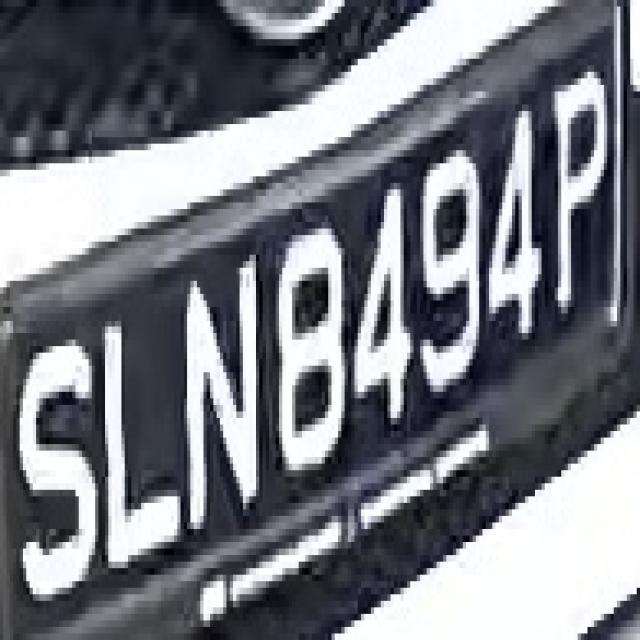4: (338, 163, 427, 451), (476, 85, 551, 359)
8: (272, 216, 354, 484)
9: (413, 124, 482, 385)
L: (102, 287, 197, 575)
N: (167, 274, 276, 529)
P: (545, 59, 610, 307)
S: (16, 300, 102, 601)
